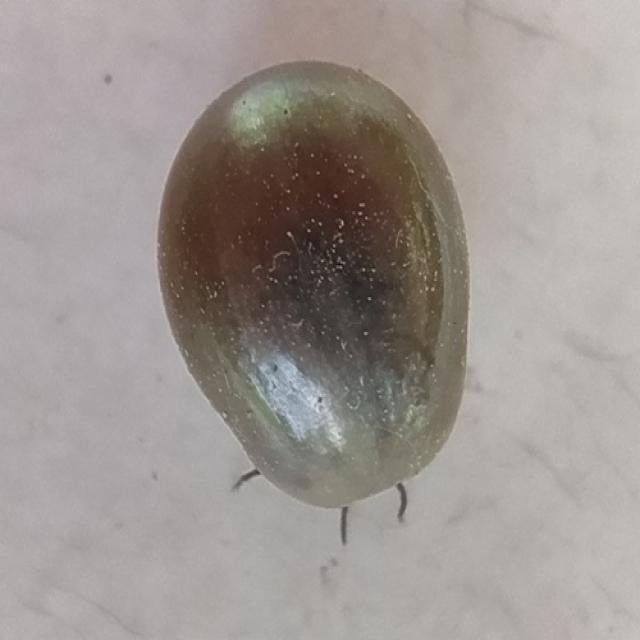Ixodes Ricinus-F-Fed: (155, 59, 468, 548)
